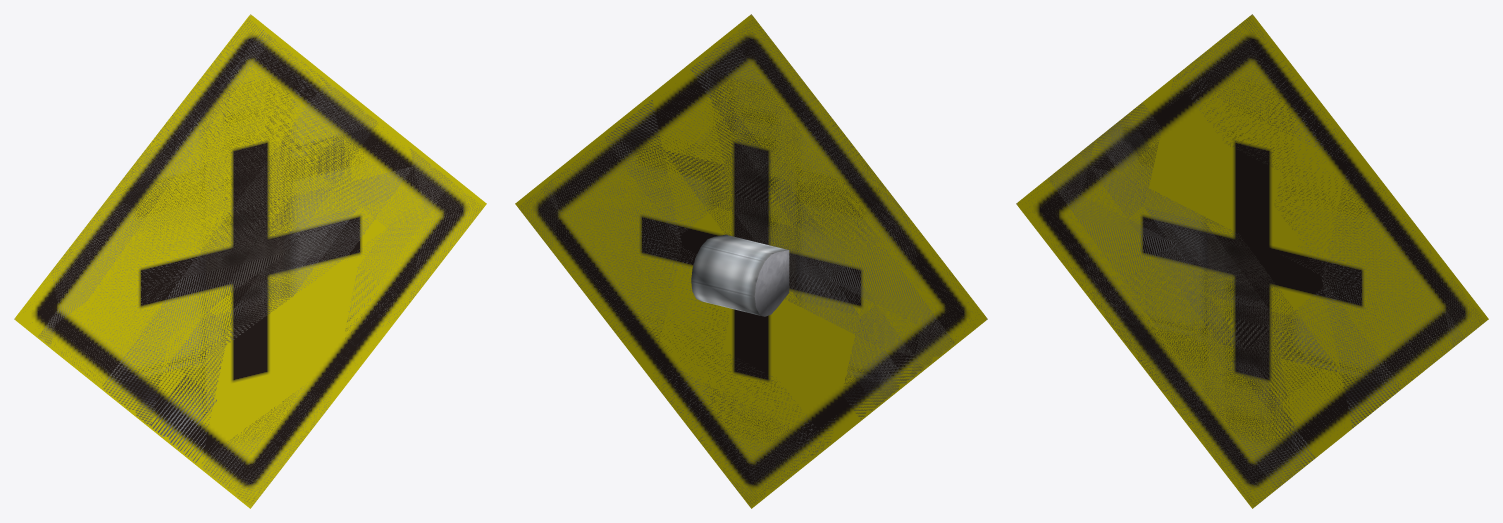
File: Parts_Plate_Rhonbus675.fbx
The picture shows the model from 3 angles, left to right: view 1: azimuth 30°, elevation 25°; view 2: azimuth 150°, elevation 25°; view 3: azimuth 330°, elevation 25°; orthographic projection.
Parts seen in each view (by area): view 1: 964_plate_rhombus675; view 2: 964_plate_rhombus675; view 3: 964_plate_rhombus675.
Boxes of the visible parts, left/top/right/bottom form: 964_plate_rhombus675: left=14, top=14, right=486, bottom=508; 964_plate_rhombus675: left=515, top=14, right=987, bottom=508; 964_plate_rhombus675: left=1016, top=14, right=1488, bottom=508.
Bounding box in the file's own units: 0.9546 × 0.9546 × 0.1233.
